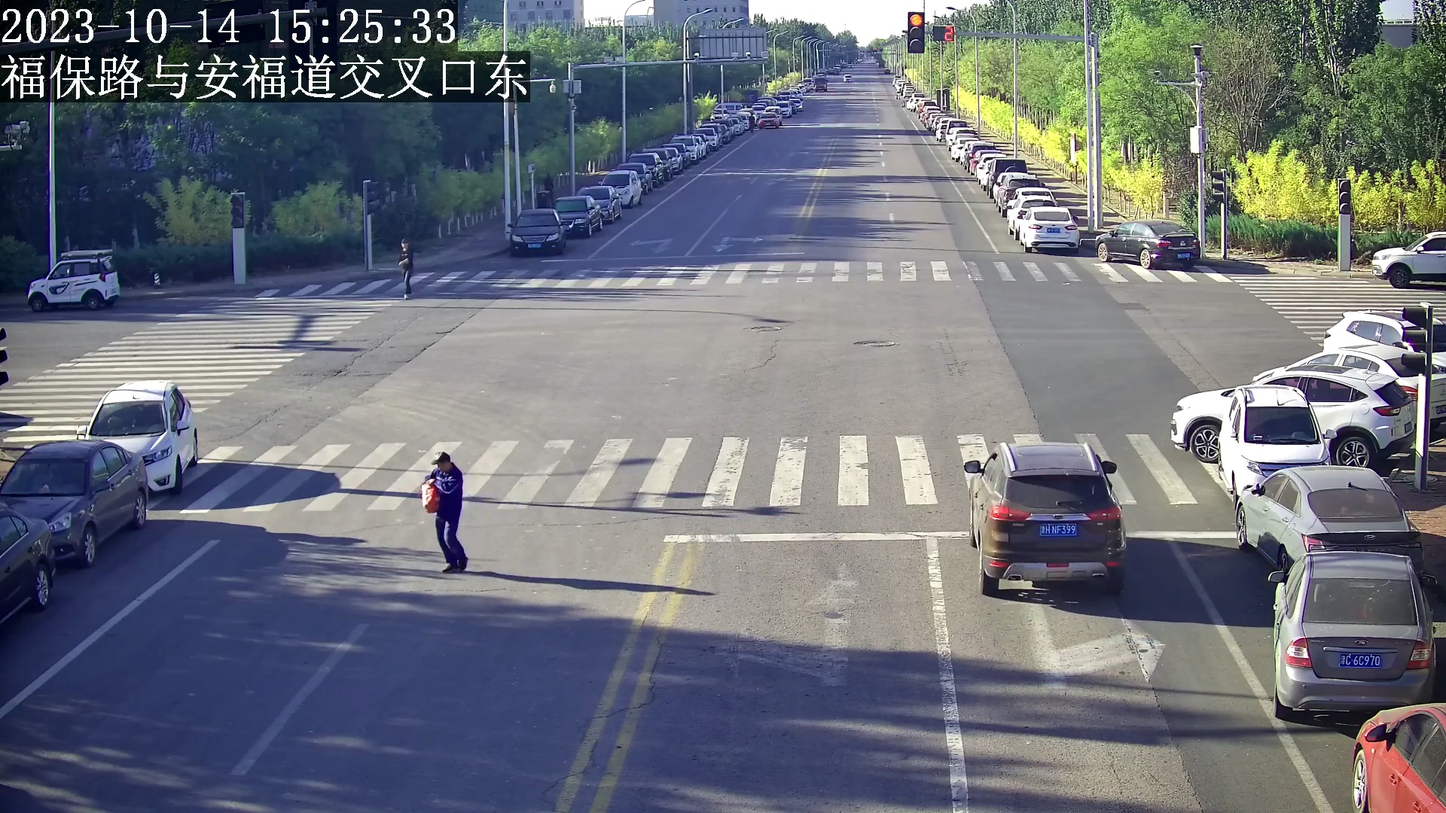person: (419, 447, 469, 574), (398, 236, 414, 300)
vehicle: (1268, 545, 1440, 724), (1161, 358, 1416, 464), (963, 439, 1126, 594), (1234, 464, 1420, 565), (1, 439, 142, 562), (78, 372, 200, 493), (1218, 381, 1342, 492), (1349, 702, 1445, 812), (25, 245, 127, 313), (1094, 214, 1200, 273), (1374, 227, 1445, 286), (503, 205, 562, 255), (1017, 202, 1077, 249), (553, 190, 605, 239)
